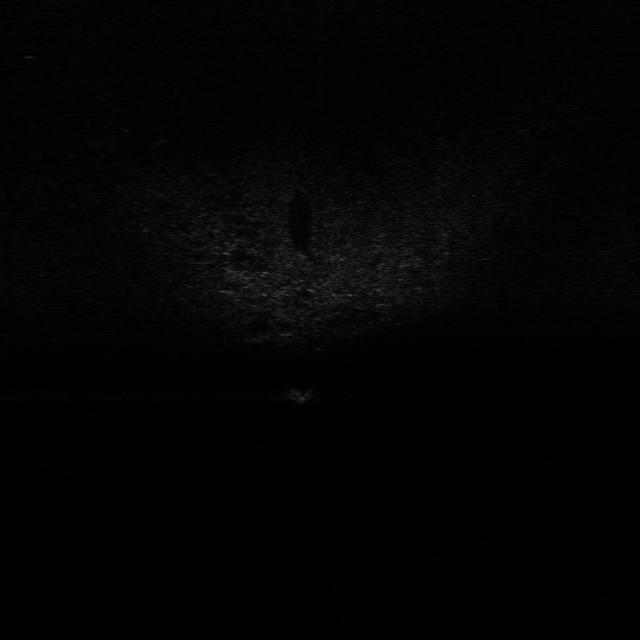cube: (284, 384, 320, 407)
